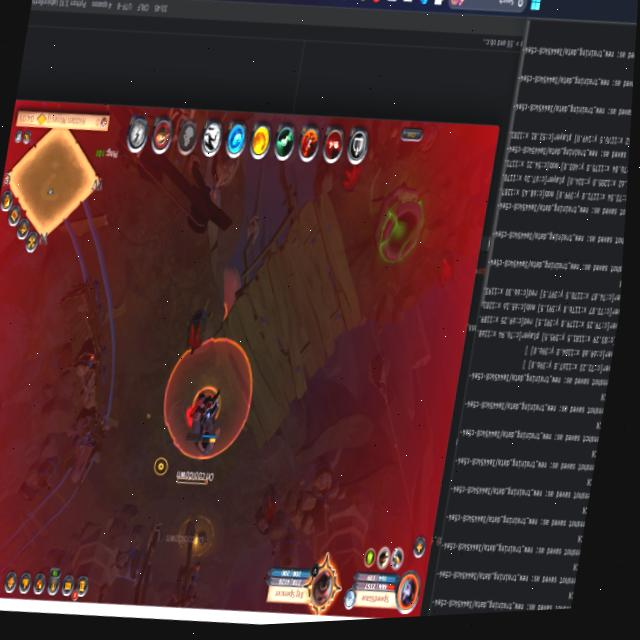ore: (173, 389, 230, 490)
red: (182, 375, 227, 450)
silver: (163, 338, 252, 458)
